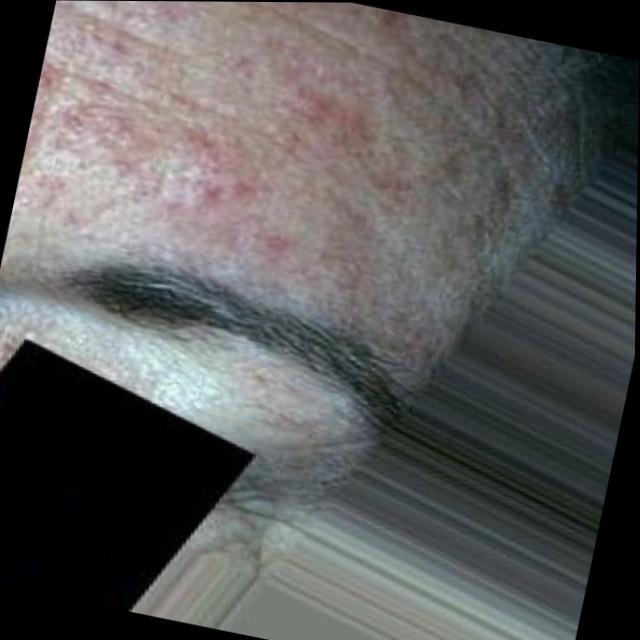Rosacea: (13, 0, 493, 288)
